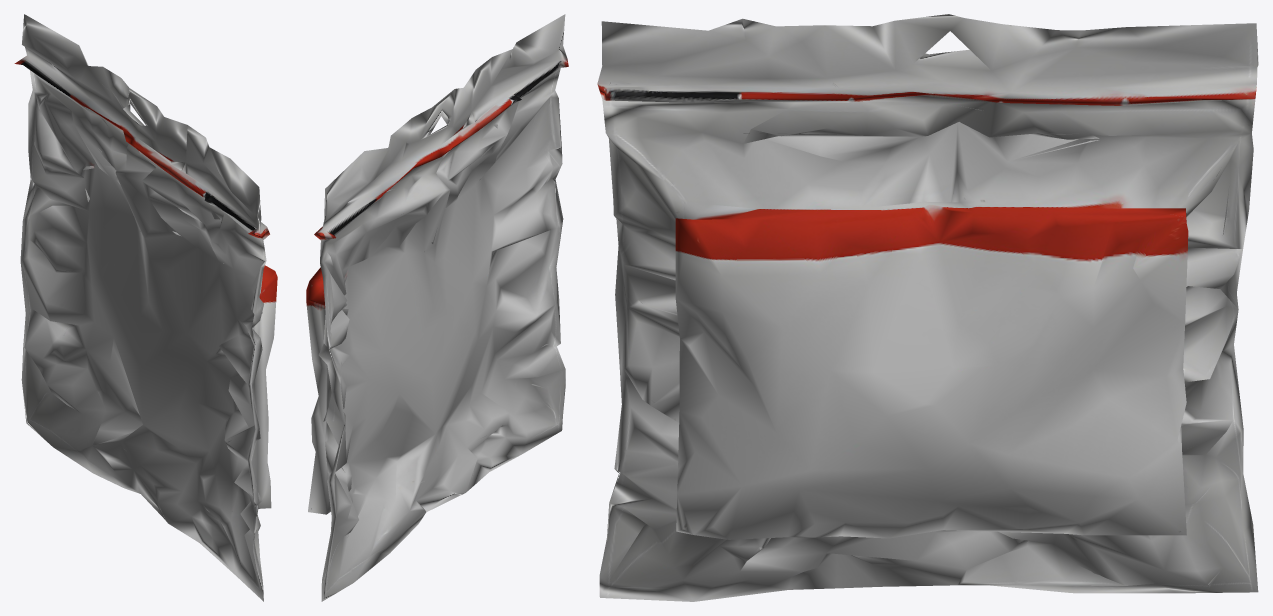
3 views of the same model, side by side, from view 1: azimuth 30°, elevation 25°; view 2: azimuth 150°, elevation 25°; view 3: azimuth 270°, elevation 25° (orthographic). The views are drawn at different scales.
Parts seen in each view (by area): view 1: tripo_node_8019984e-8393-4e58-b65c-bbde898e3216; view 2: tripo_node_8019984e-8393-4e58-b65c-bbde898e3216; view 3: tripo_node_8019984e-8393-4e58-b65c-bbde898e3216.
Part boxes in pixels (bbox=[...]): tripo_node_8019984e-8393-4e58-b65c-bbde898e3216: bbox=[14, 14, 277, 601]; tripo_node_8019984e-8393-4e58-b65c-bbde898e3216: bbox=[306, 14, 568, 601]; tripo_node_8019984e-8393-4e58-b65c-bbde898e3216: bbox=[597, 14, 1258, 601].
Size of the model in its own units: 0.2068 by 0.9652 by 1.
1 material, 1 textured.
